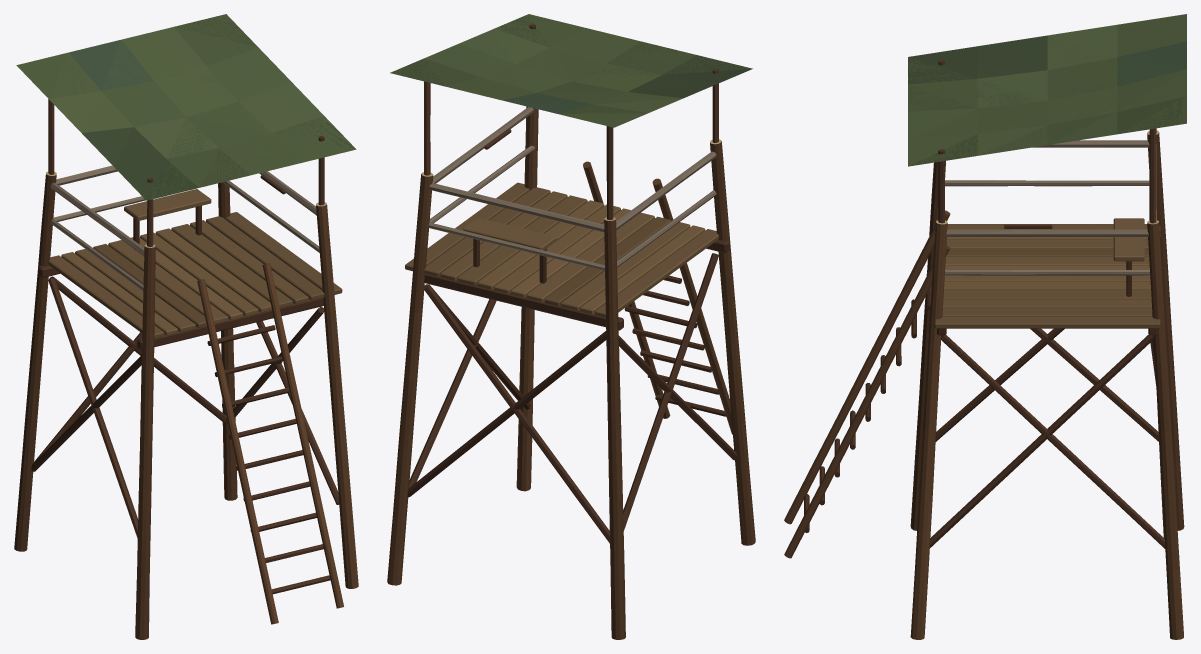
The model's file is hunting-stand.glb.
3 renders of one model, left to right at view 1: azimuth 30°, elevation 25°; view 2: azimuth 150°, elevation 25°; view 3: azimuth 270°, elevation 25°, orthographic. The views are drawn at different scales.
Parts seen in each view (by area): view 1: hunting-stand, hunting-stand-roof; view 2: hunting-stand, hunting-stand-roof; view 3: hunting-stand, hunting-stand-roof.
Boxes of the visible parts, x1,y1,x2,y2 form: hunting-stand: [14, 165, 358, 639]; hunting-stand-roof: [16, 14, 356, 246]; hunting-stand: [387, 106, 755, 639]; hunting-stand-roof: [390, 14, 752, 219]; hunting-stand: [784, 130, 1184, 639]; hunting-stand-roof: [908, 14, 1186, 223].
Bounding box in the file's own units: 2.85 × 5.9 × 4.19.
